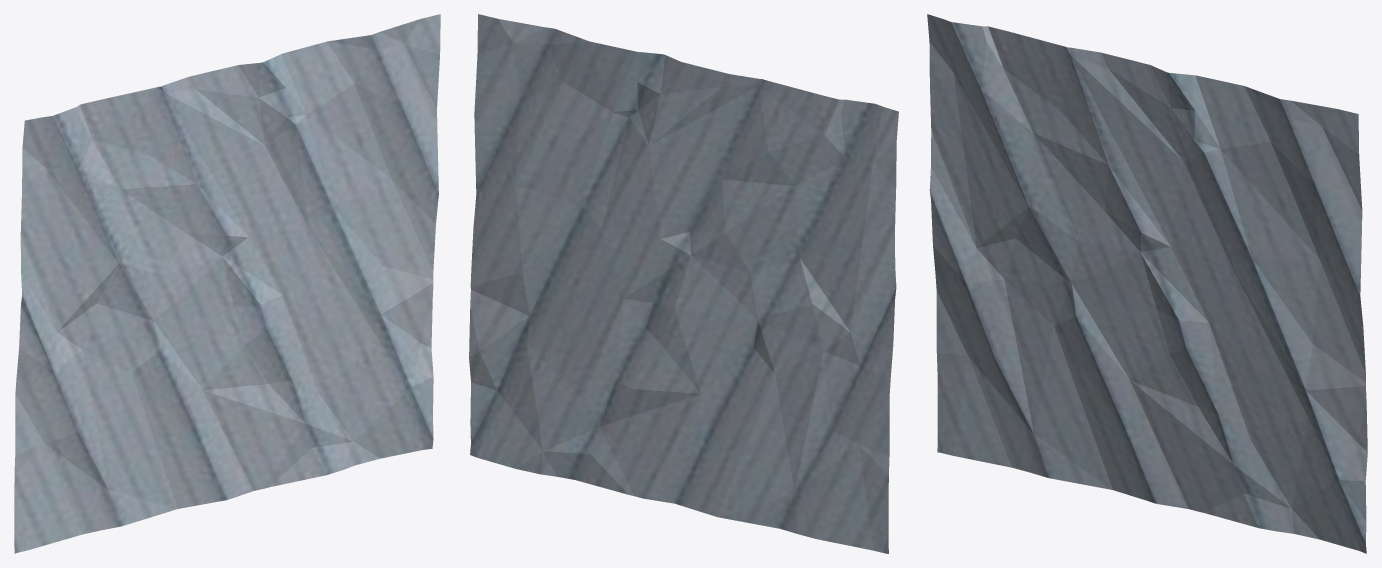
Rendered from Tile_+002_+007_L23_002201.obj.
3 views of the same model, side by side, from view 1: azimuth 30°, elevation 25°; view 2: azimuth 150°, elevation 25°; view 3: azimuth 330°, elevation 25° (orthographic). The views are drawn at different scales.
Size of the model in its own units: 1.91 by 1.91 by 0.1453.
1 material, 1 textured.
